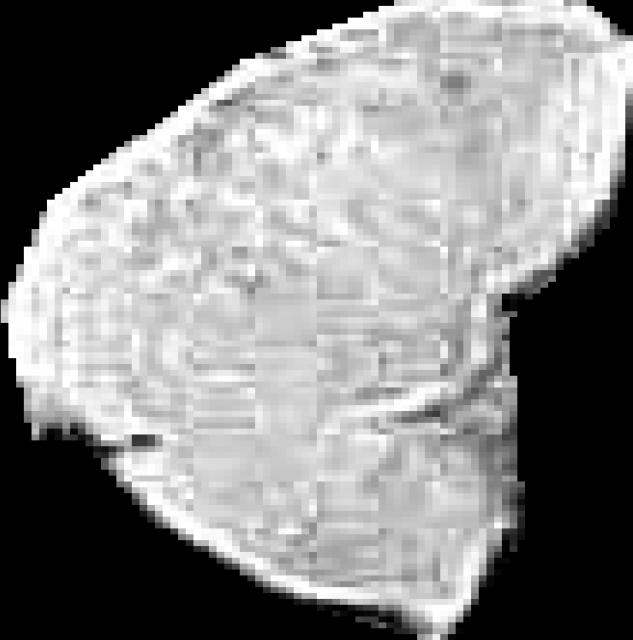tumor_good_chance: (1, 0, 633, 640)
